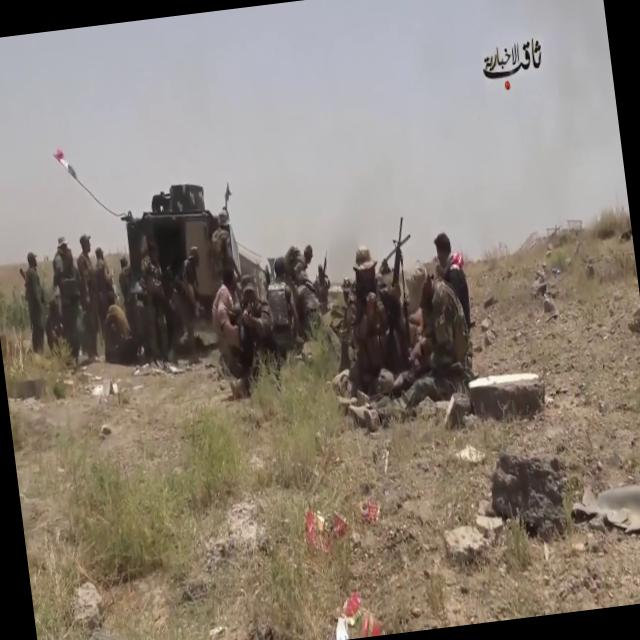long weapon: (366, 211, 433, 362)
